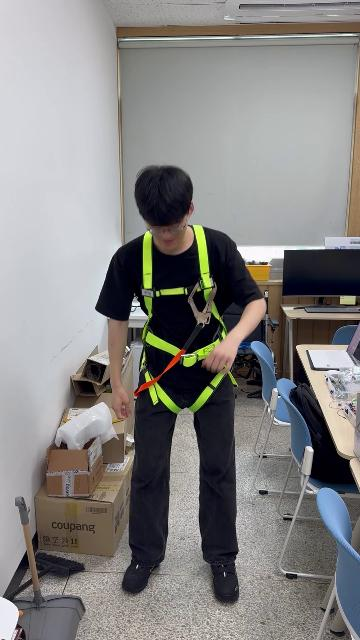helmet_not_worn: (131, 164, 196, 229)
shoe_worn: (122, 558, 162, 593), (210, 563, 239, 602)
vest_worn: (135, 229, 236, 409)
